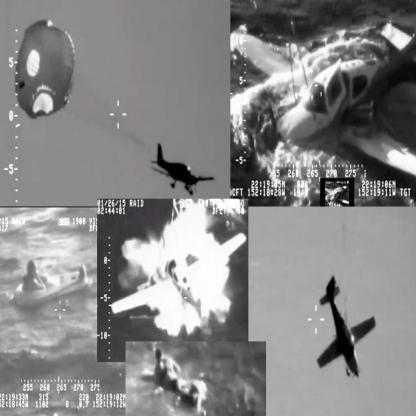CIV_Plane: (306, 263, 378, 389), (148, 138, 216, 192)
